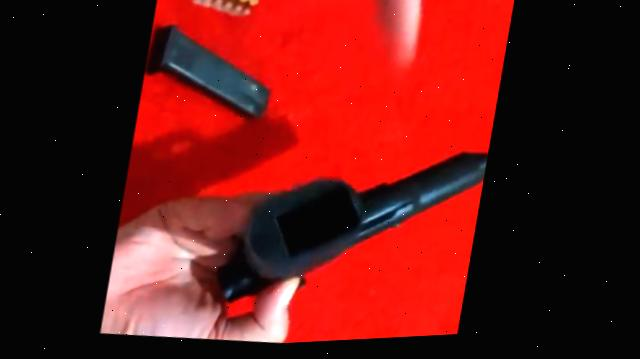pistol: (211, 121, 495, 331)
